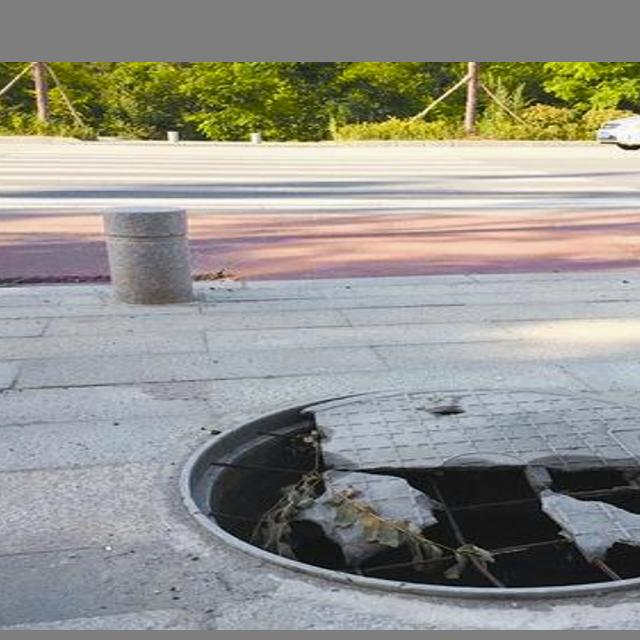broke: (153, 345, 640, 616)
